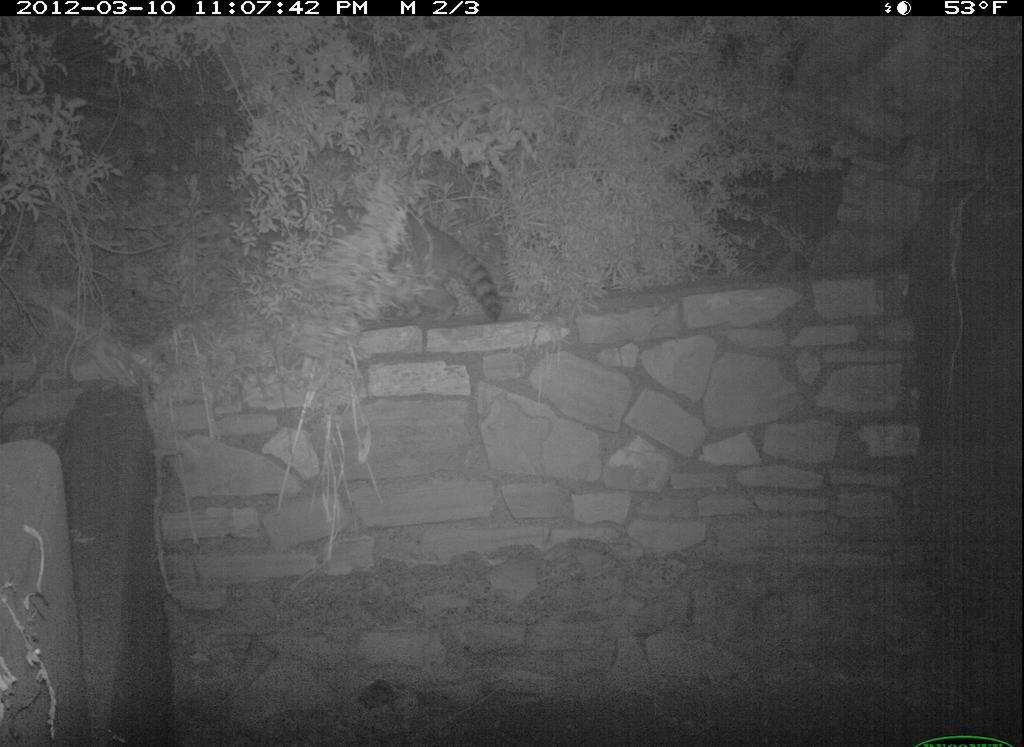raccoon: (273, 199, 511, 333)
